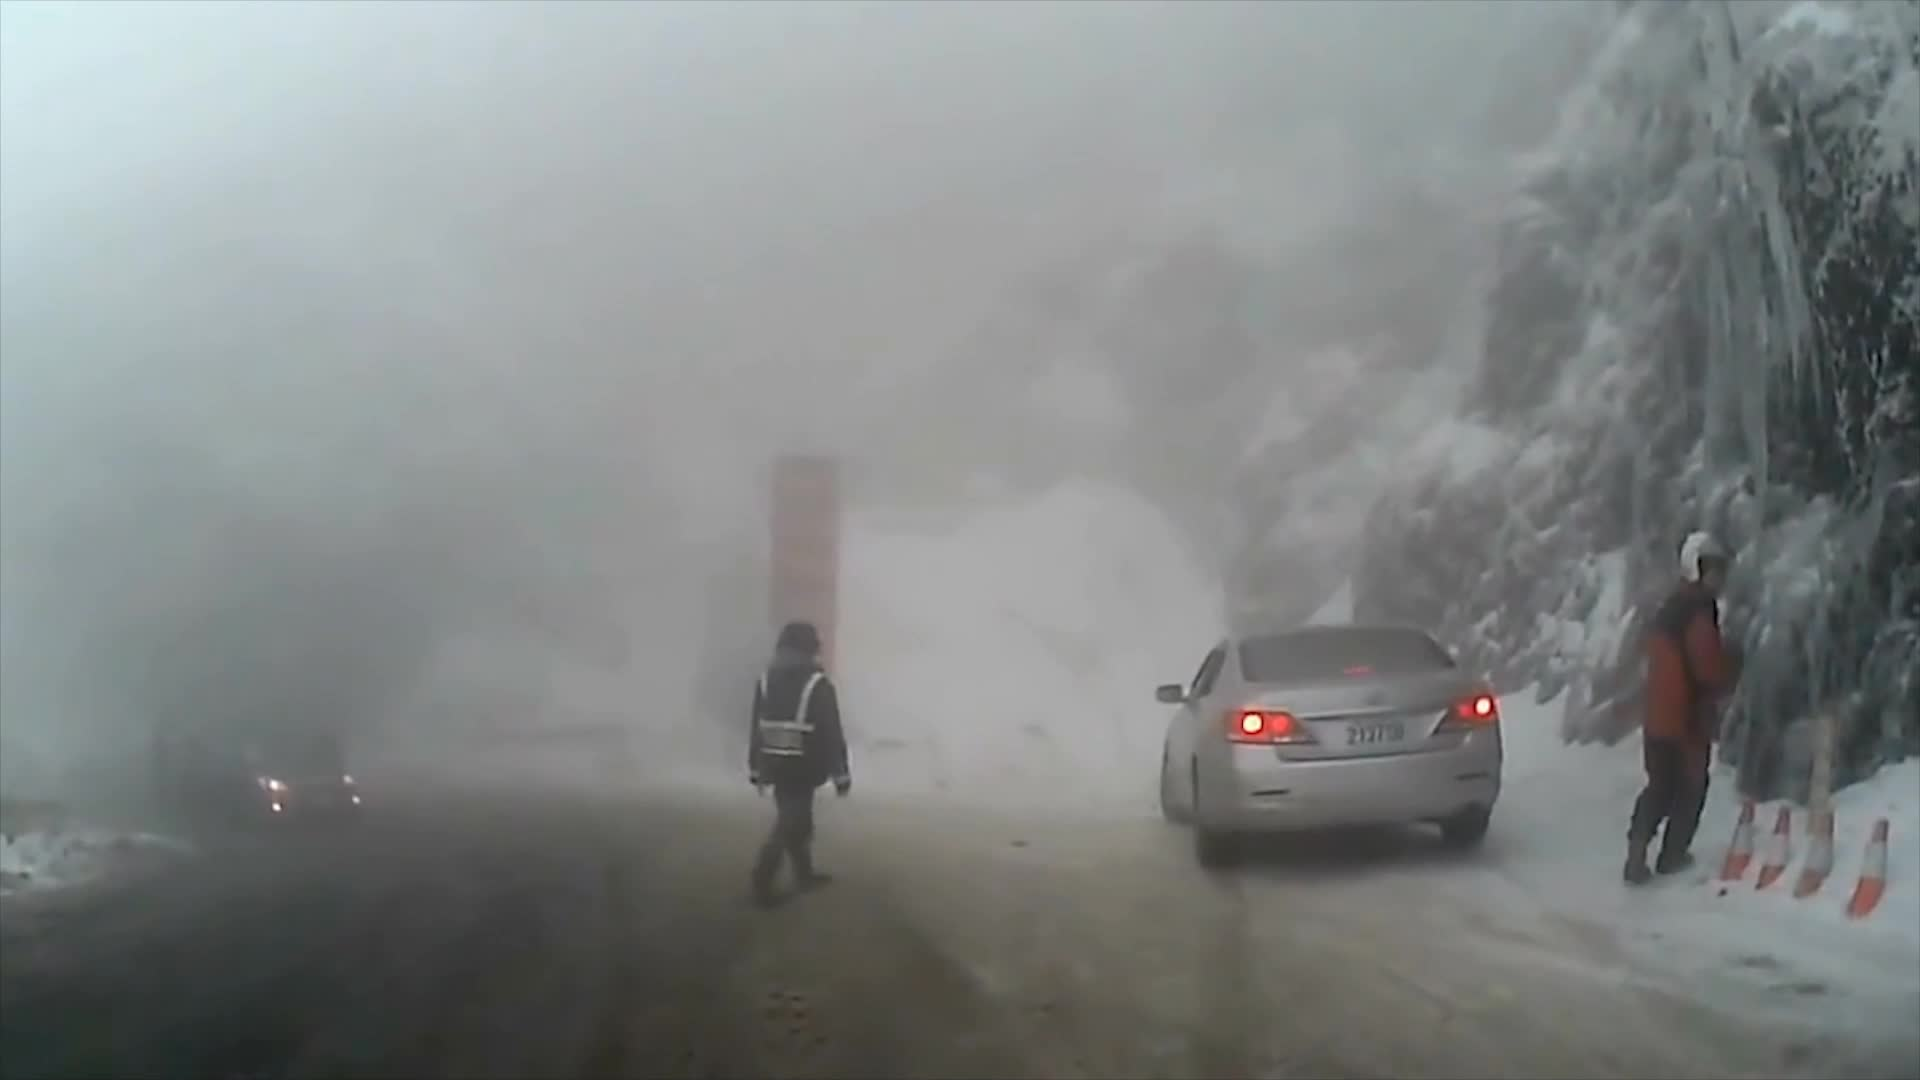pedestrian: (1620, 539, 1755, 886), (747, 627, 859, 909)
vehicle: (1158, 624, 1504, 872)
